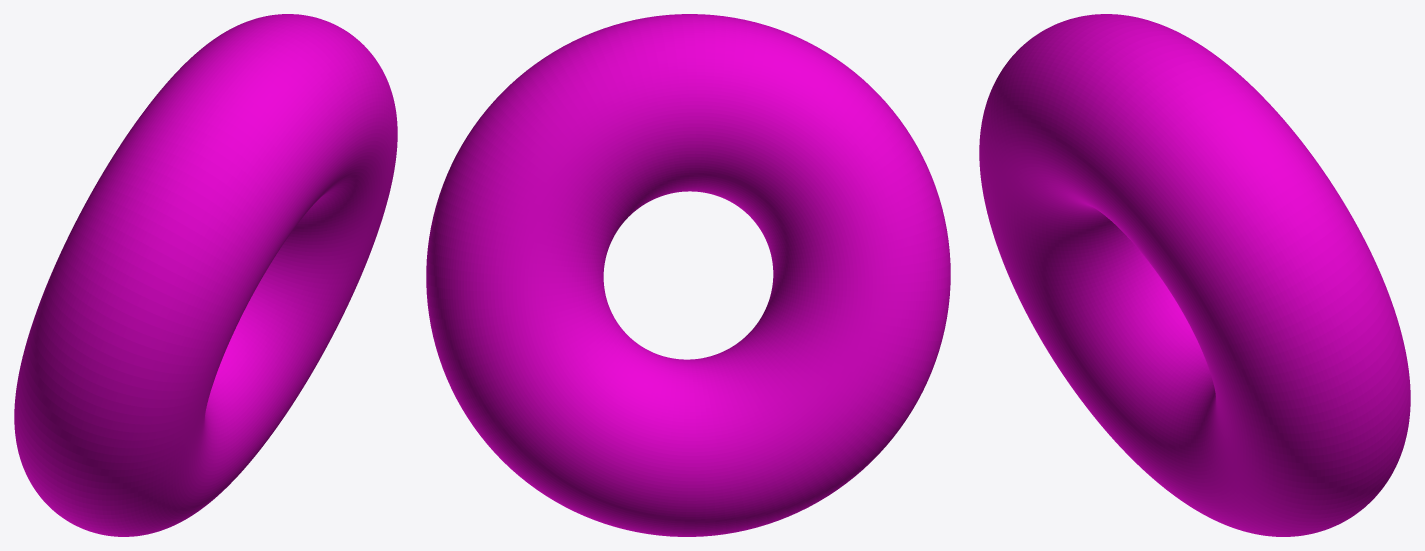
The model's file is torrus5.glb.
3 renders of one model, left to right at view 1: azimuth 30°, elevation 25°; view 2: azimuth 150°, elevation 25°; view 3: azimuth 270°, elevation 25°, orthographic. The views are drawn at different scales.
Parts seen in each view (by area): view 1: Torus.002; view 2: Torus.002; view 3: Torus.002.
Part boxes in pixels (x1,y1,x2,y2): Torus.002: [14, 14, 397, 536]; Torus.002: [426, 14, 950, 536]; Torus.002: [979, 14, 1410, 536].
Size of the model in its own units: 15.43 by 16.64 by 12.88.
